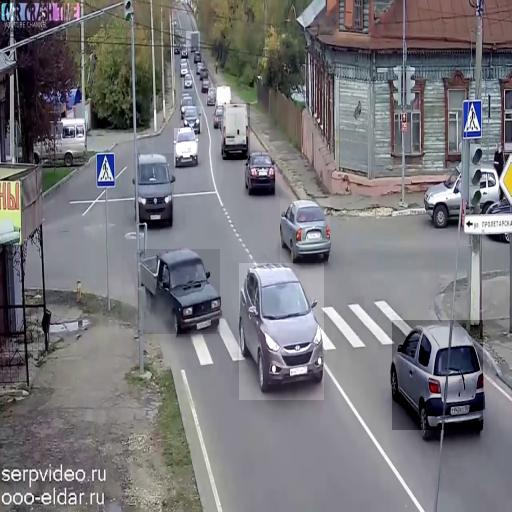小汽车: (239, 263, 324, 400), (392, 320, 483, 430), (138, 249, 220, 334), (426, 164, 504, 228), (280, 199, 330, 263), (135, 153, 174, 222), (222, 103, 250, 160), (244, 150, 276, 196), (174, 128, 198, 166), (183, 106, 202, 132), (186, 31, 200, 51), (182, 70, 194, 91), (206, 84, 218, 104), (197, 61, 208, 76)
